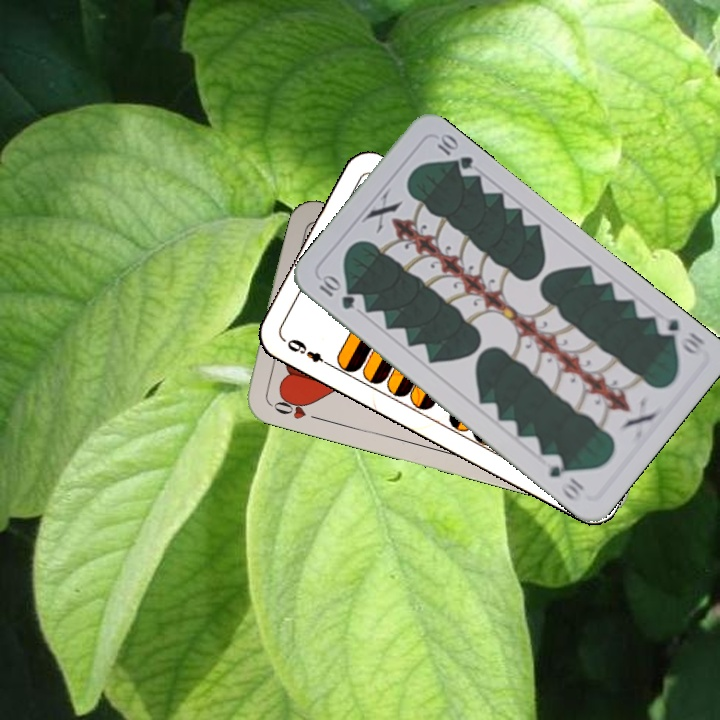E9: (282, 335, 335, 370)
G10: (651, 311, 708, 357), (315, 271, 358, 313)
HO: (264, 390, 322, 423)
